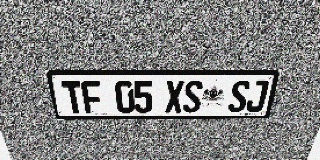0: (114, 80, 135, 113)
5: (134, 80, 153, 113)
F: (80, 80, 103, 114)
J: (245, 80, 270, 112)
S: (228, 80, 251, 112), (183, 80, 203, 113)
T: (61, 81, 85, 114)
X: (165, 80, 184, 113)
